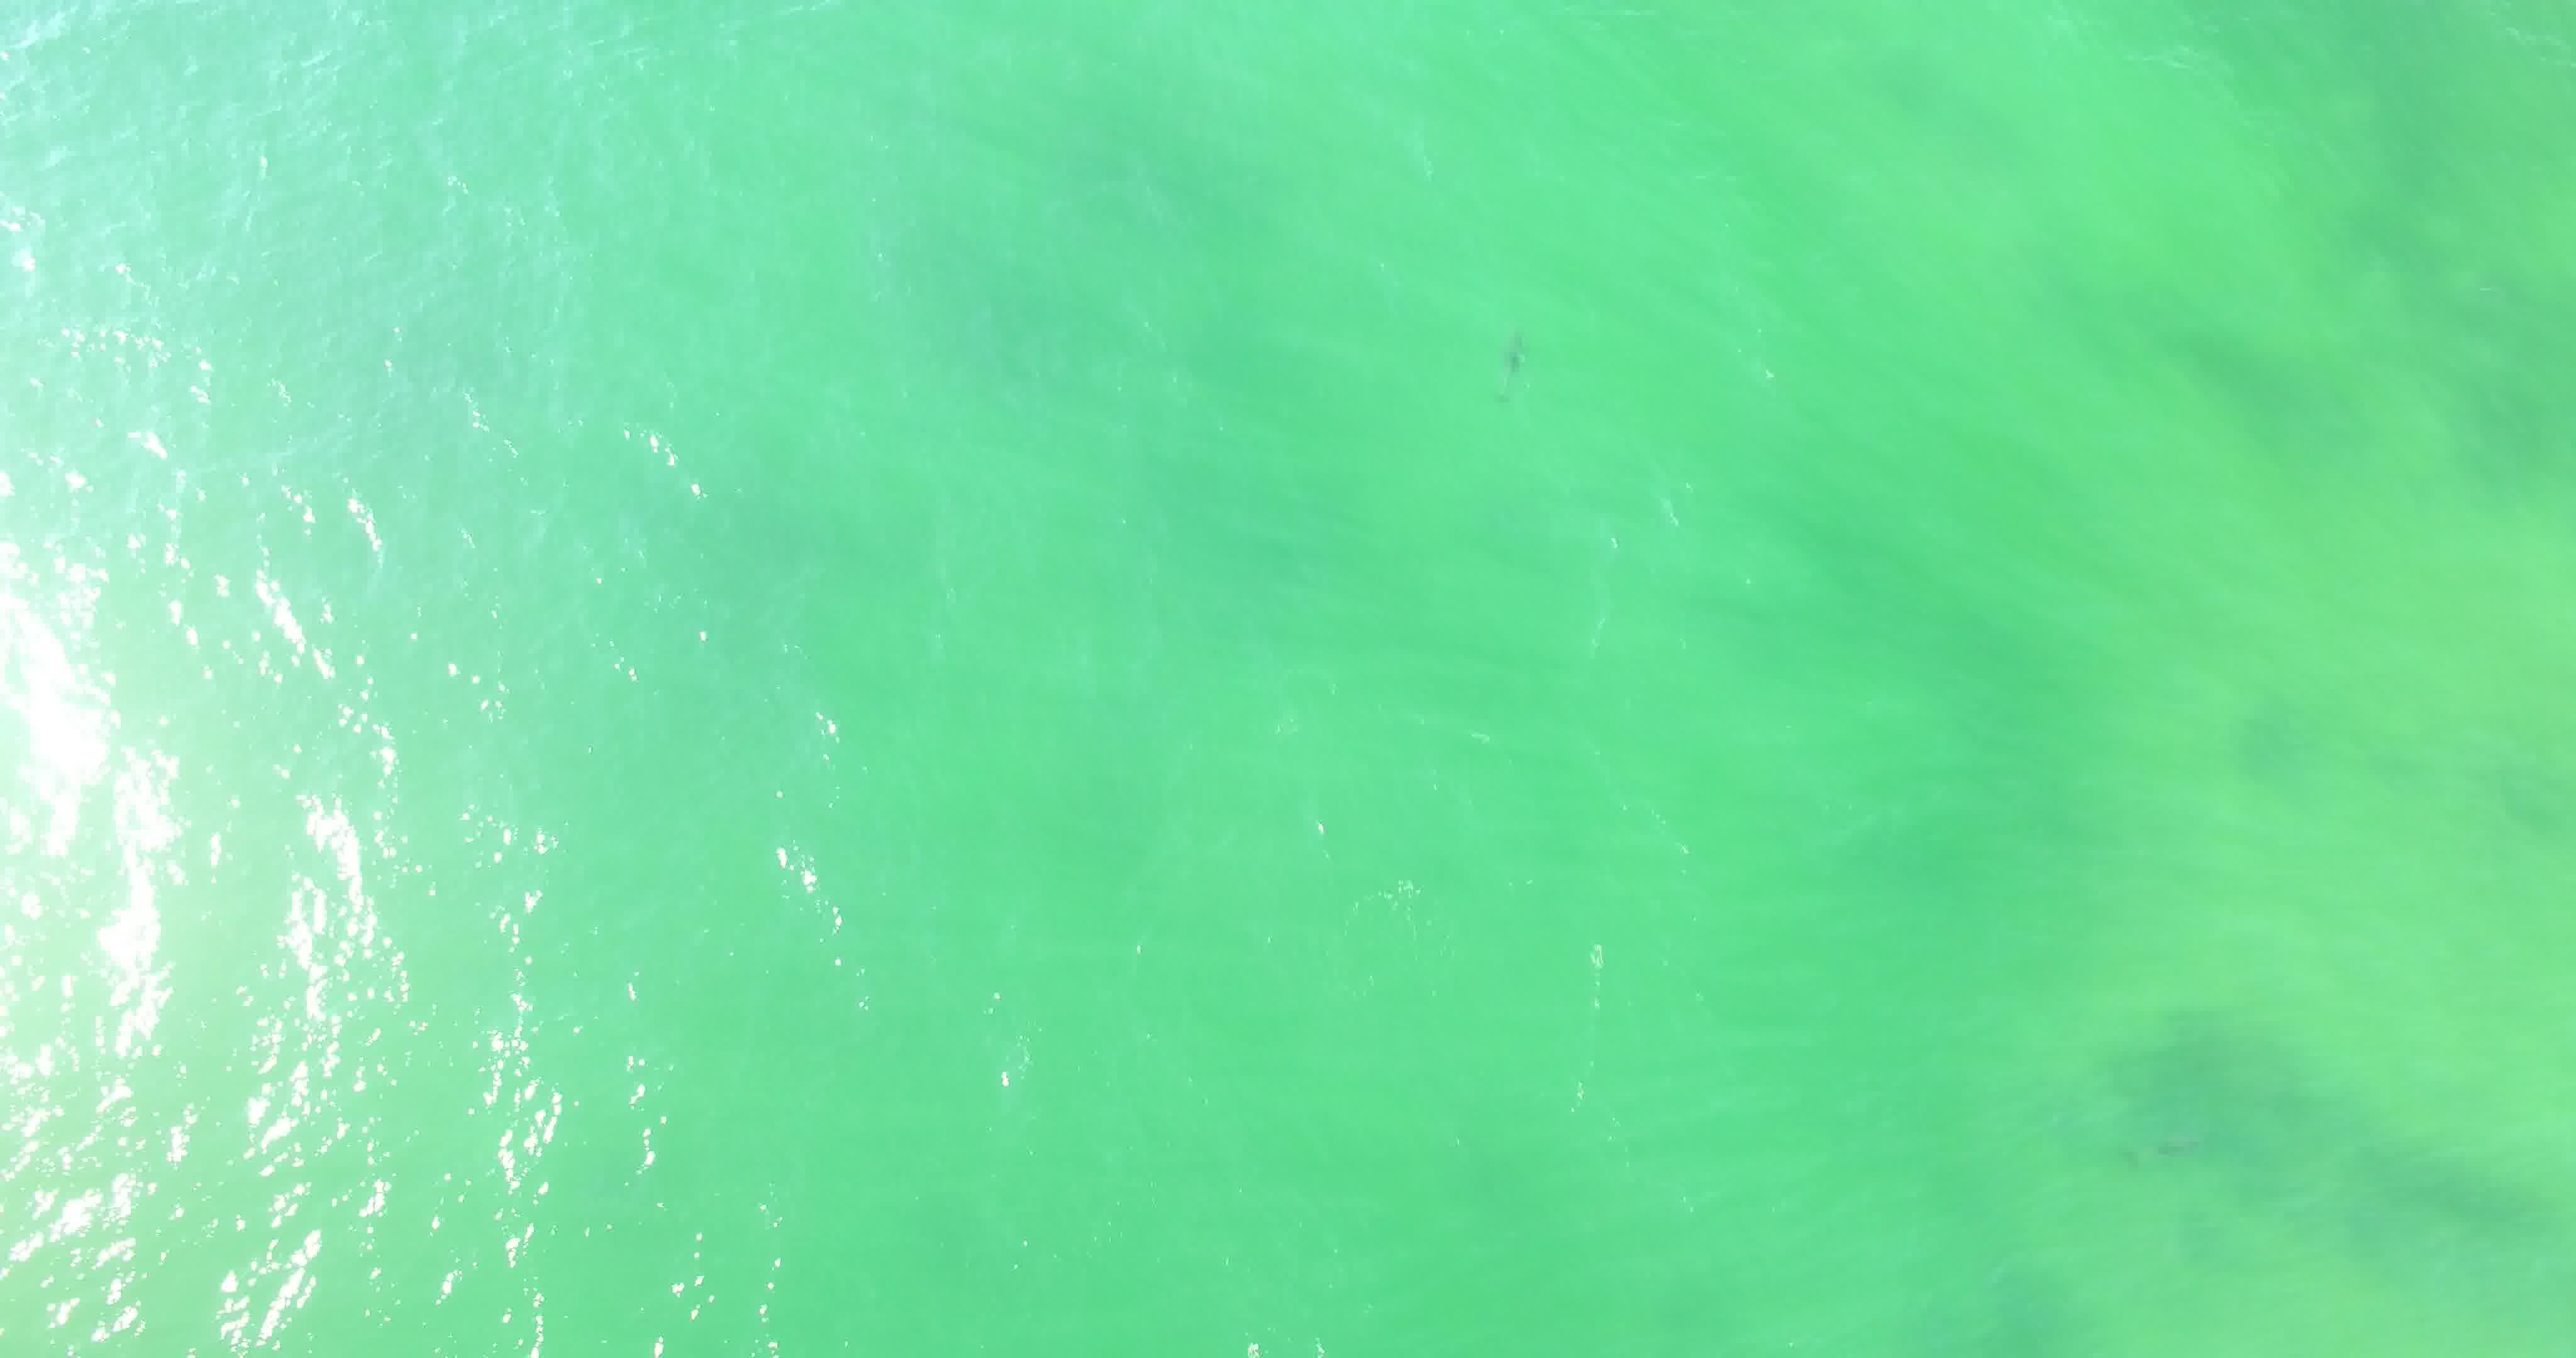dolphin: (1469, 305, 1545, 409)
